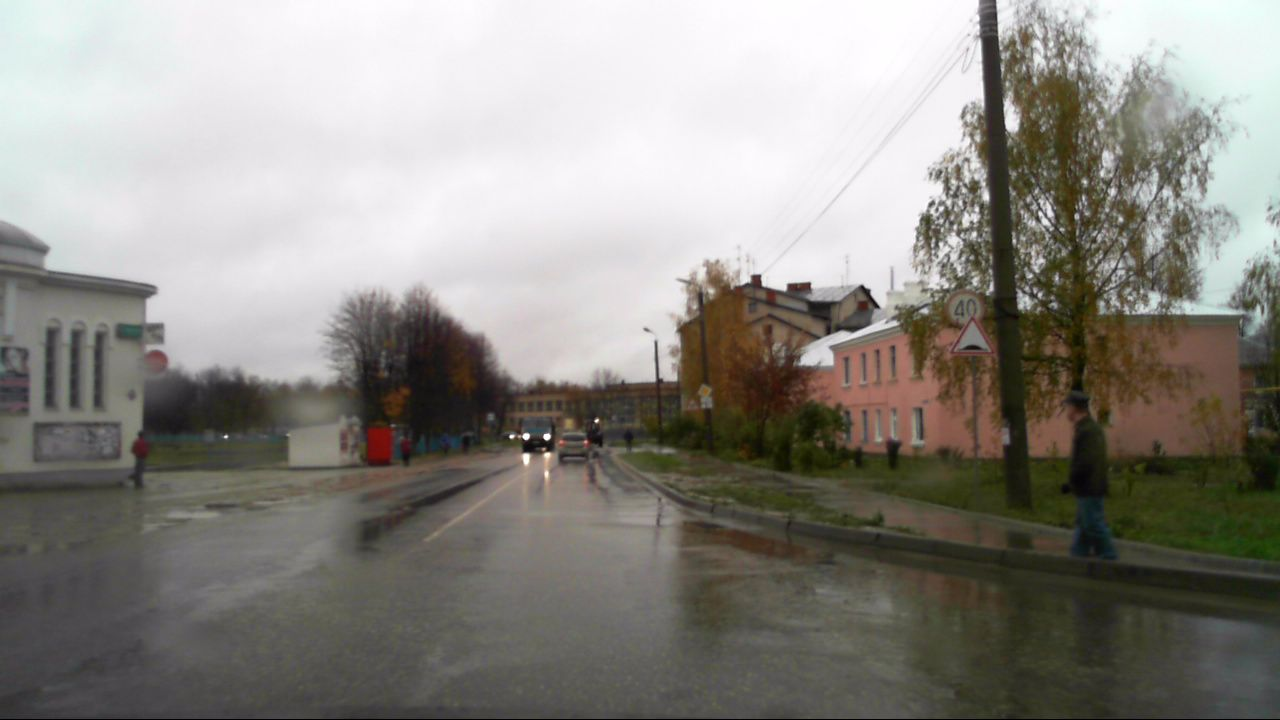speed_warning_40: (945, 290, 984, 328)
